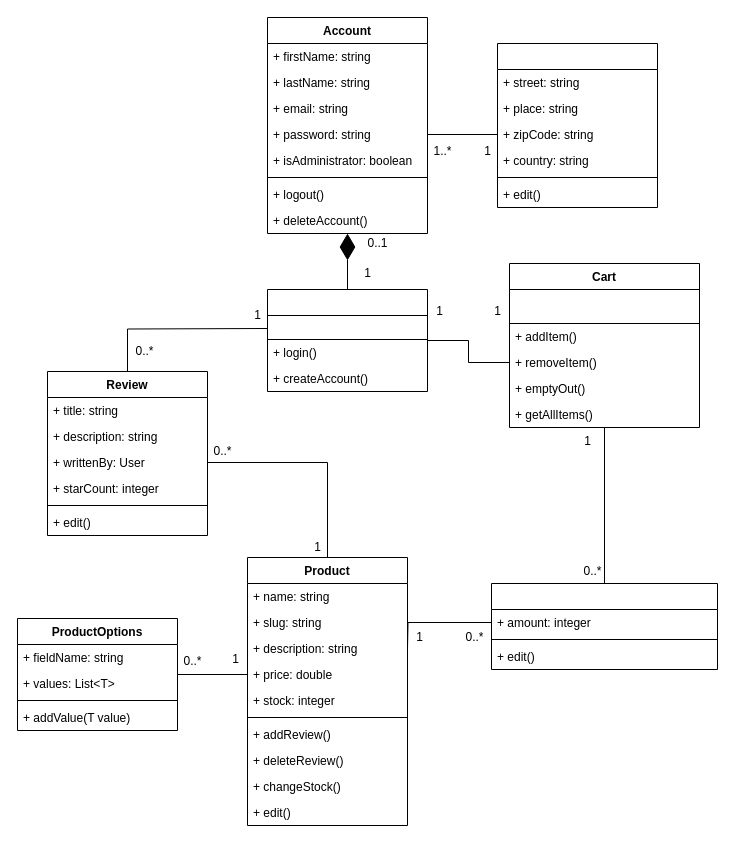
Image size: 735x846. Some labels were removed from this diagram. The shapes that lost their labels are listed below. From the top down, each one's box as (x1, y1, x2, y2) in pixels, then its label:
(496, 42, 658, 208): Adress
(266, 288, 428, 392): User
(490, 582, 718, 670): Order
